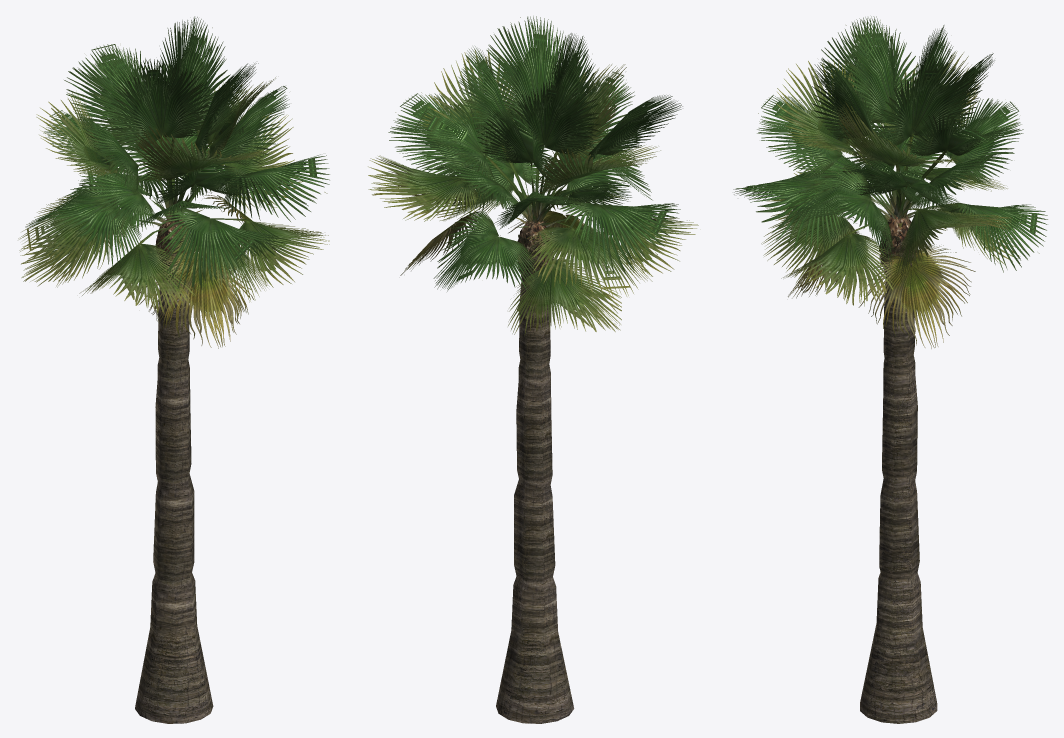
File: MK4_FanPalm2.DAE
The picture shows the model from 3 angles, left to right: view 1: azimuth 30°, elevation 25°; view 2: azimuth 150°, elevation 25°; view 3: azimuth 270°, elevation 25°; orthographic projection.
Parts seen in each view (by area): view 1: MK4_FanPalm250, MK4_FanPalm70, MK4_FanPalm125; view 2: MK4_FanPalm250, MK4_FanPalm70, MK4_FanPalm125; view 3: MK4_FanPalm250, MK4_FanPalm70, MK4_FanPalm125.
Part boxes in pixels (x1,y1,x2,y2): MK4_FanPalm250: (18,17,329,723); MK4_FanPalm70: (21,16,328,497); MK4_FanPalm125: (62,34,277,571); MK4_FanPalm250: (368,16,698,723); MK4_FanPalm70: (369,17,689,495); MK4_FanPalm125: (411,33,655,565); MK4_FanPalm250: (733,16,1047,723); MK4_FanPalm70: (741,22,1038,500); MK4_FanPalm125: (772,33,1009,571).
Size of what is drawn, in the model's own units: 38.57 by 36.71 by 85.84.
